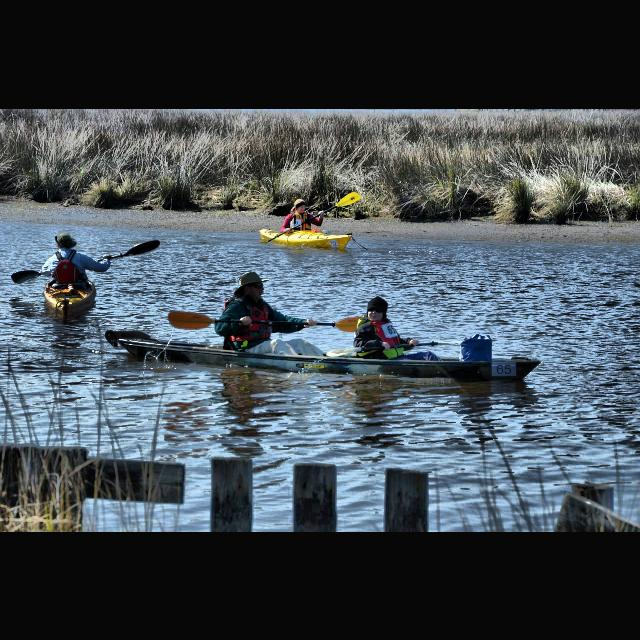kayak: (104, 328, 542, 382), (259, 226, 353, 250), (44, 276, 96, 316)
